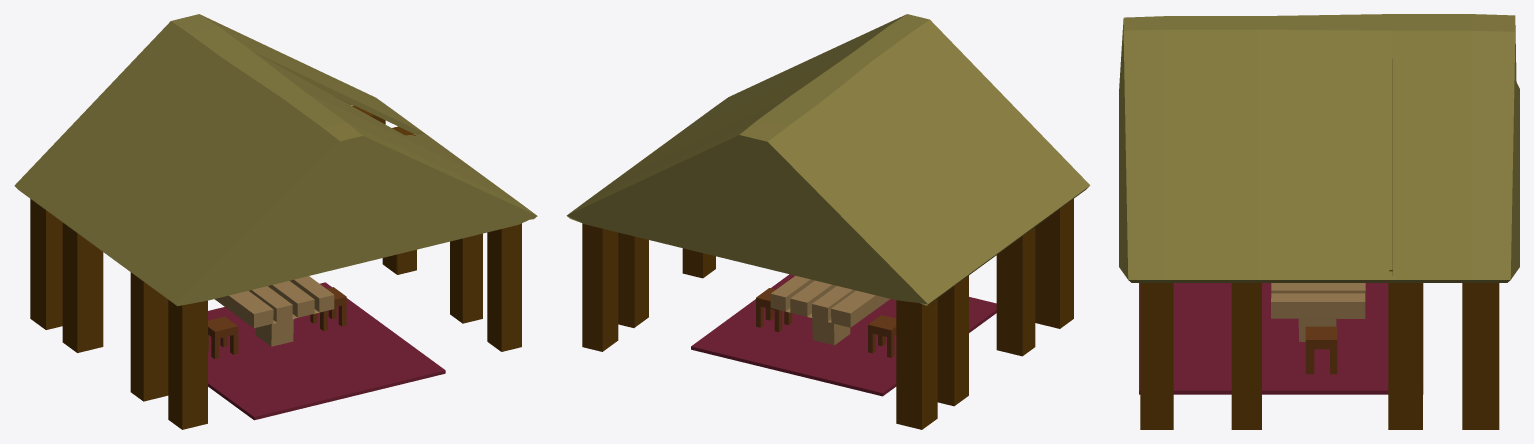
Rendered from cAUA EU SOU.fbx.
3 renders of one model, left to right at view 1: azimuth 30°, elevation 25°; view 2: azimuth 150°, elevation 25°; view 3: azimuth 270°, elevation 25°, orthographic. The views are drawn at different scales.
Parts seen in each view (by area): view 1: Cube.002, Cube, Plane, Cube.001; view 2: Cube.002, Cube, Plane, Cube.001; view 3: Cube.002, Cube, Plane, Cube.001.
Part boxes in pixels (box(x1,y1,x2,y2)): Cube.002: box(14, 14, 537, 306); Cube: box(30, 105, 521, 429); Plane: box(208, 282, 445, 420); Cube.001: box(208, 287, 346, 359); Cube.002: box(566, 14, 1090, 305); Cube: box(582, 199, 1073, 429); Plane: box(691, 274, 996, 396); Cube.001: box(756, 288, 896, 357); Cube.002: box(1119, 14, 1519, 282); Cube: box(1140, 270, 1499, 429); Plane: box(1139, 283, 1423, 394); Cube.001: box(1305, 326, 1337, 374).
Size of the model in its own units: 815 by 575 by 661.
